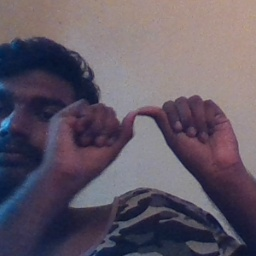A: (80, 92, 209, 180)
